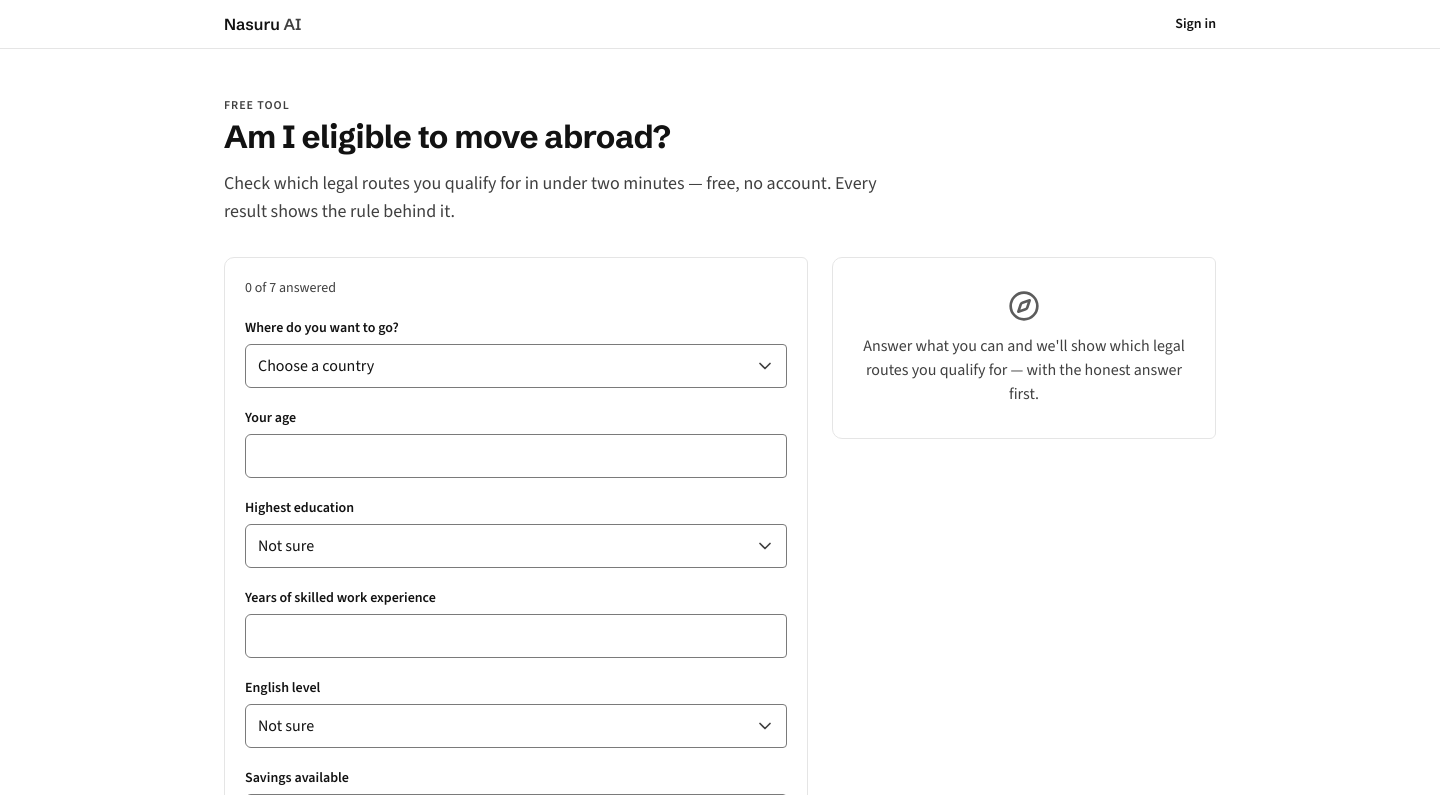
Test: EligibilityToolView › shows routes with the blocked answer first
Select "Germany" in the dropdown labelled "Where do you want to go?": (516, 366) [245,344,787,388]
(page scrolled)
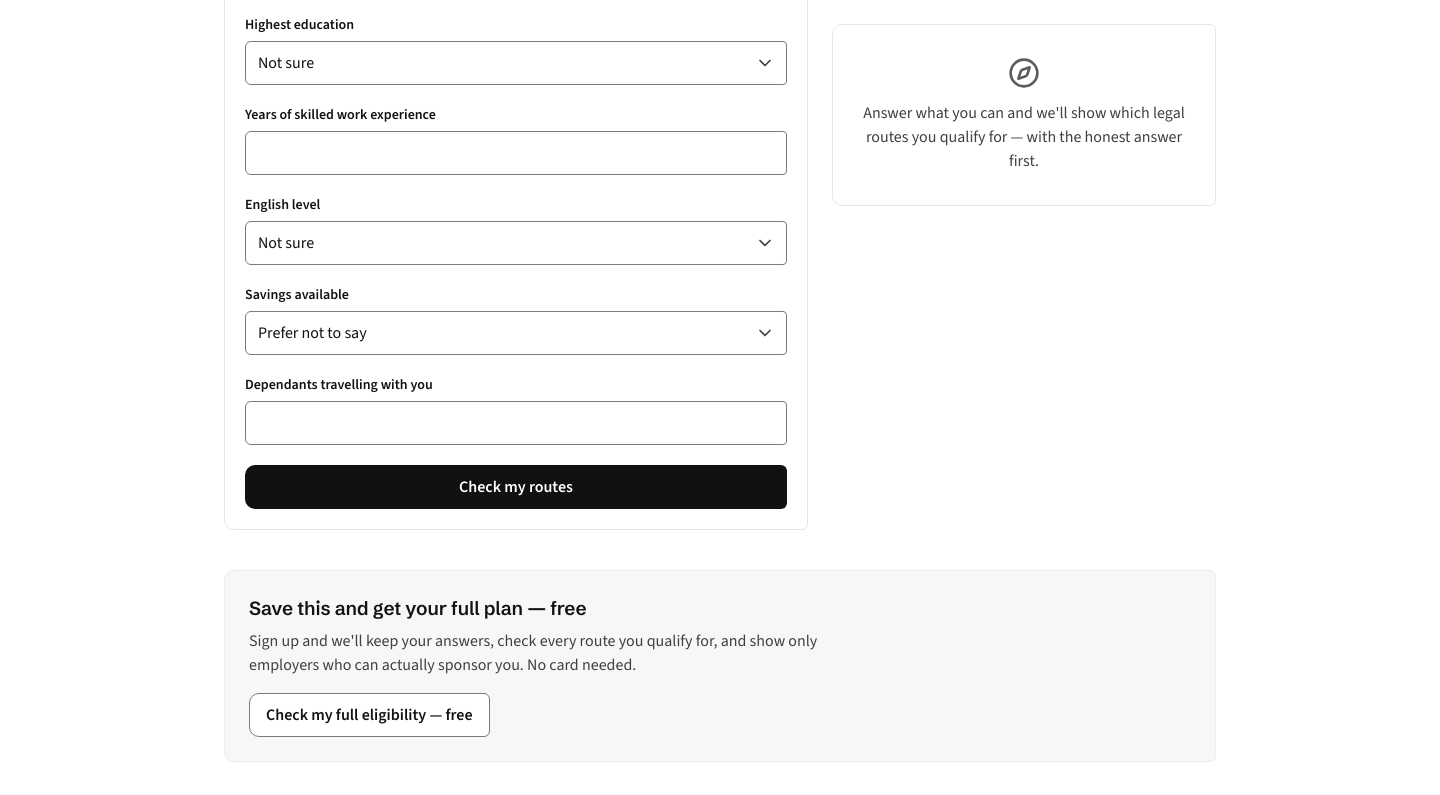
Click the button "Check my routes": (516, 487) [245,465,787,509]
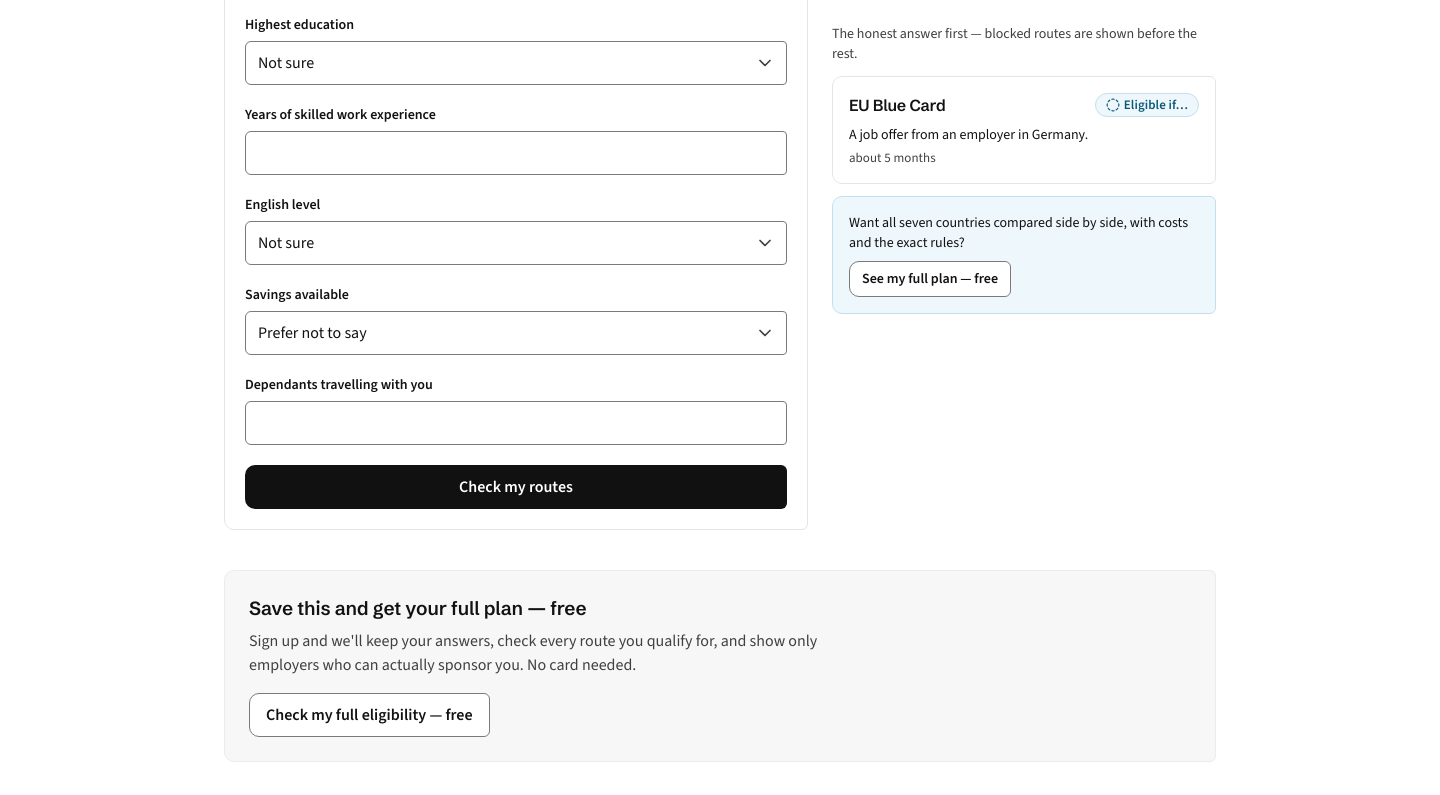
Check: the heading "EU Blue Card" is shown, box [849,93,946,117]
Check: the text "A job offer from an employer in Germany." is shown, box [849,125,1088,144]
